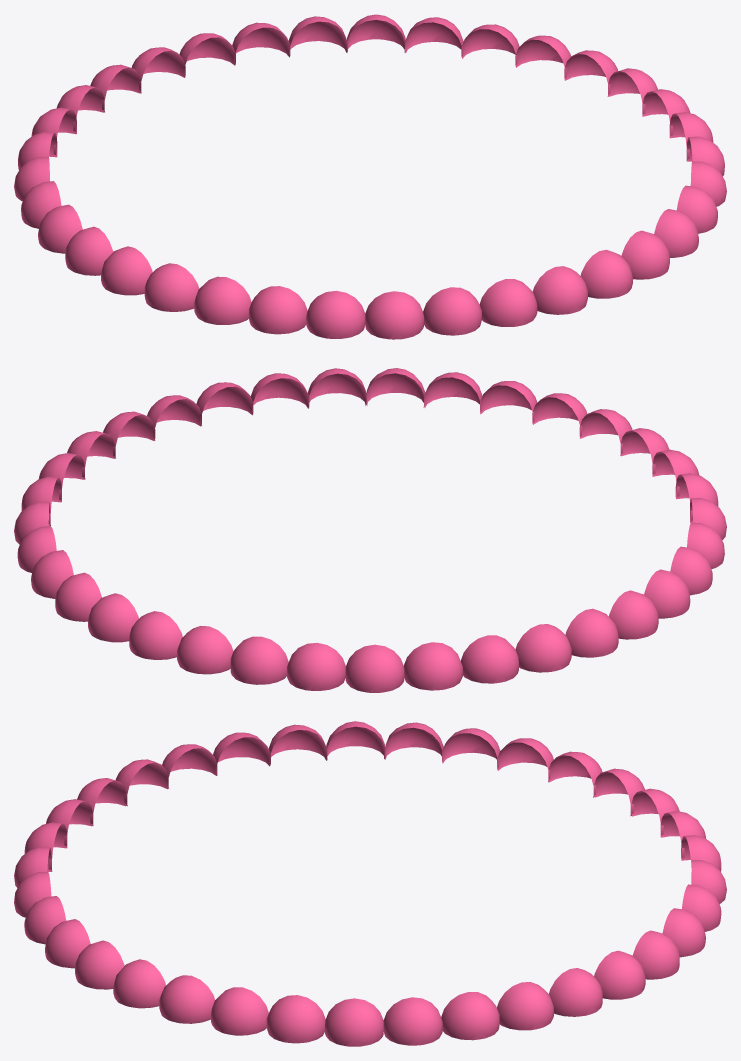
Rendered from Cake_Sml_itemsSide_Pearls-B.FBX.
3 views of the same model, one above another, from view 1: azimuth 30°, elevation 25°; view 2: azimuth 150°, elevation 25°; view 3: azimuth 270°, elevation 25° (orthographic).
Visible parts, largest first — view 1: Cake_Sml_itemsSide_Pearls-B; view 2: Cake_Sml_itemsSide_Pearls-B; view 3: Cake_Sml_itemsSide_Pearls-B.
Boxes of the visible parts, box(x1,y1,x2,y2) form: Cake_Sml_itemsSide_Pearls-B: box(14, 14, 726, 339); Cake_Sml_itemsSide_Pearls-B: box(14, 368, 726, 692); Cake_Sml_itemsSide_Pearls-B: box(14, 721, 726, 1046).
Bounding box in the file's own units: 5153 × 271 × 5148.
